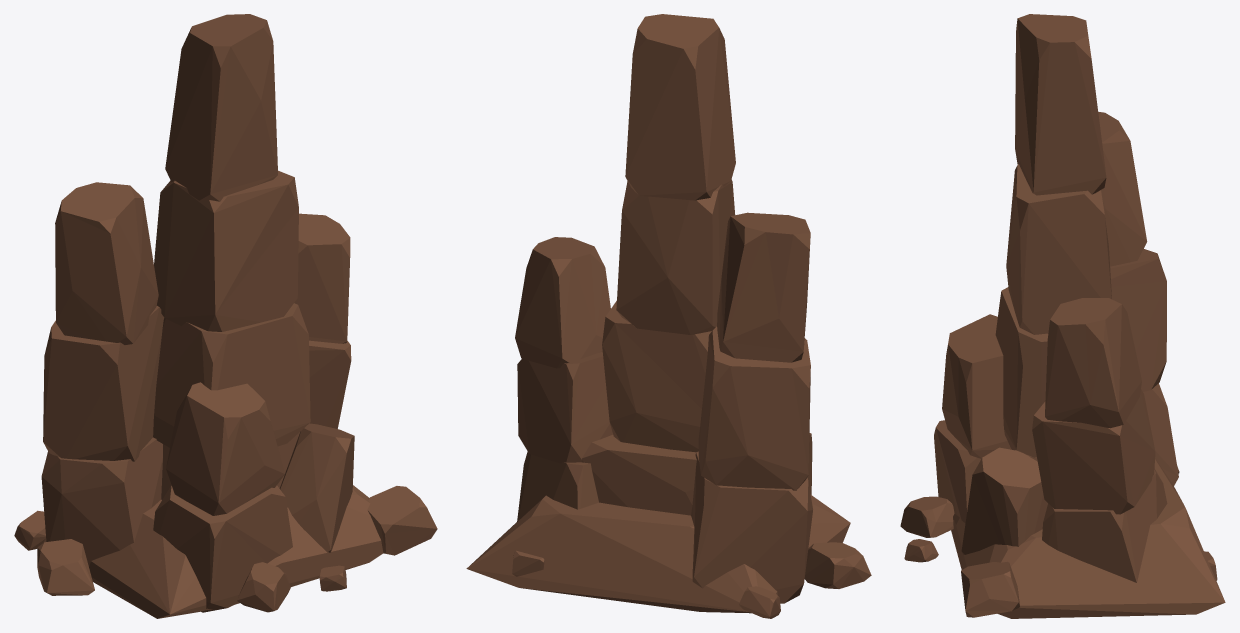
The model's file is env_spire_b.fbx.
3 renders of one model, left to right at view 1: azimuth 30°, elevation 25°; view 2: azimuth 150°, elevation 25°; view 3: azimuth 270°, elevation 25°, orthographic.
Visible parts, largest first — view 1: Rock; view 2: Rock; view 3: Rock.
Boxes of the visible parts, x1,y1,x2,y2 form: Rock: (14,14,437,618); Rock: (466,14,871,618); Rock: (900,14,1225,618).
Bounding box in the file's own units: 33.47 × 48.12 × 26.76.
